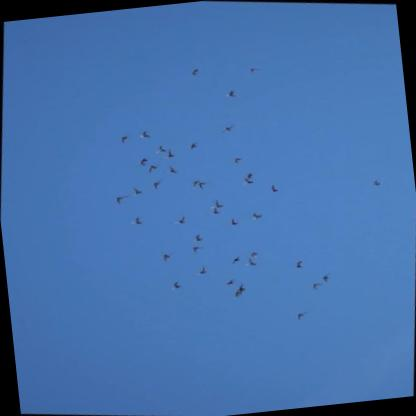bird: (166, 211, 189, 227), (221, 214, 240, 229), (149, 176, 166, 191), (157, 146, 174, 161), (207, 196, 225, 210), (242, 255, 260, 269), (290, 257, 308, 271), (129, 184, 145, 198), (146, 160, 162, 174), (191, 265, 207, 279), (219, 121, 235, 135), (188, 231, 205, 244), (118, 131, 133, 145), (163, 162, 179, 175), (205, 205, 222, 217), (239, 174, 256, 186), (231, 155, 249, 166), (114, 193, 129, 206), (196, 179, 211, 192), (227, 253, 242, 266), (235, 281, 248, 296), (248, 209, 263, 222), (294, 309, 309, 322), (190, 243, 206, 255), (309, 280, 325, 292), (131, 214, 146, 226), (159, 251, 174, 263), (222, 87, 237, 99), (246, 247, 261, 259), (188, 178, 201, 191), (320, 271, 333, 284), (135, 156, 150, 167), (137, 128, 152, 139), (169, 280, 184, 291), (188, 66, 203, 77), (153, 142, 167, 153), (223, 277, 237, 287), (185, 140, 200, 149), (268, 182, 280, 193), (248, 65, 261, 74), (231, 288, 242, 297), (370, 178, 382, 185), (244, 171, 253, 179)
